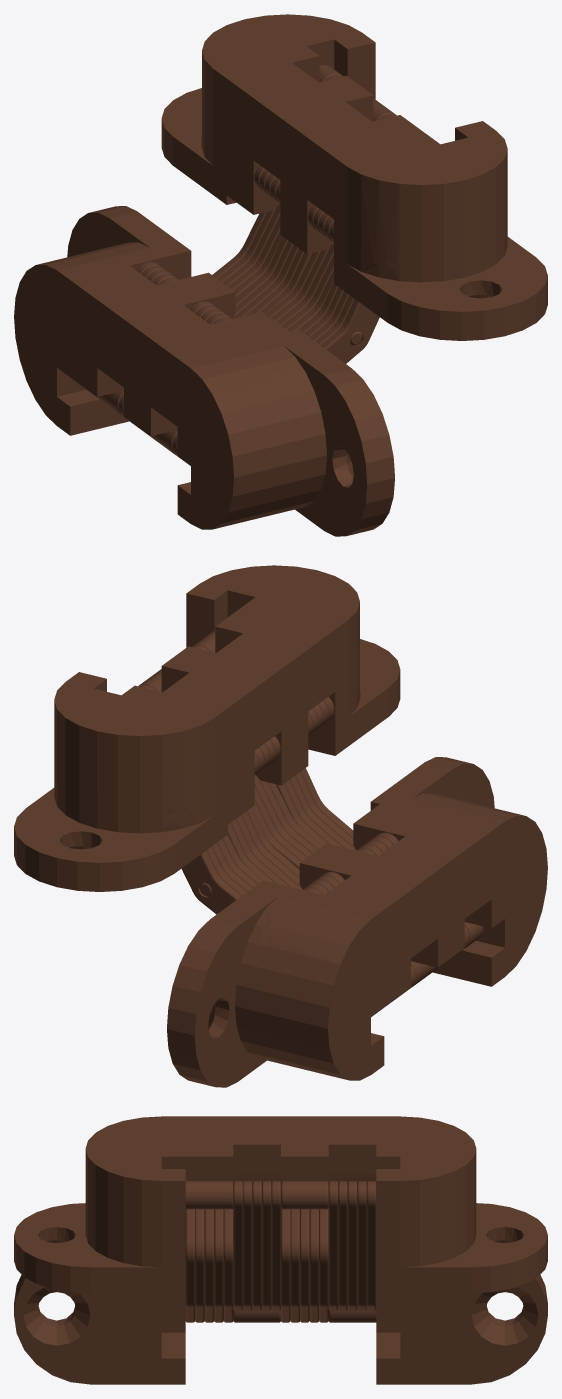
The model's file is Mentese2.dae.
3 renders of one model, top to bottom at view 1: azimuth 30°, elevation 25°; view 2: azimuth 150°, elevation 25°; view 3: azimuth 270°, elevation 25°, orthographic. The views are drawn at different scales.
Visible parts, largest first — view 1: Mentese1; view 2: Mentese1; view 3: Mentese1.
Boxes of the visible parts, box(x1,y1,x2,y2) form: Mentese1: box(14, 14, 547, 536); Mentese1: box(14, 565, 547, 1087); Mentese1: box(14, 1116, 547, 1384).
Bounding box in the file's own units: 0.0328 × 0.056 × 0.0328.
